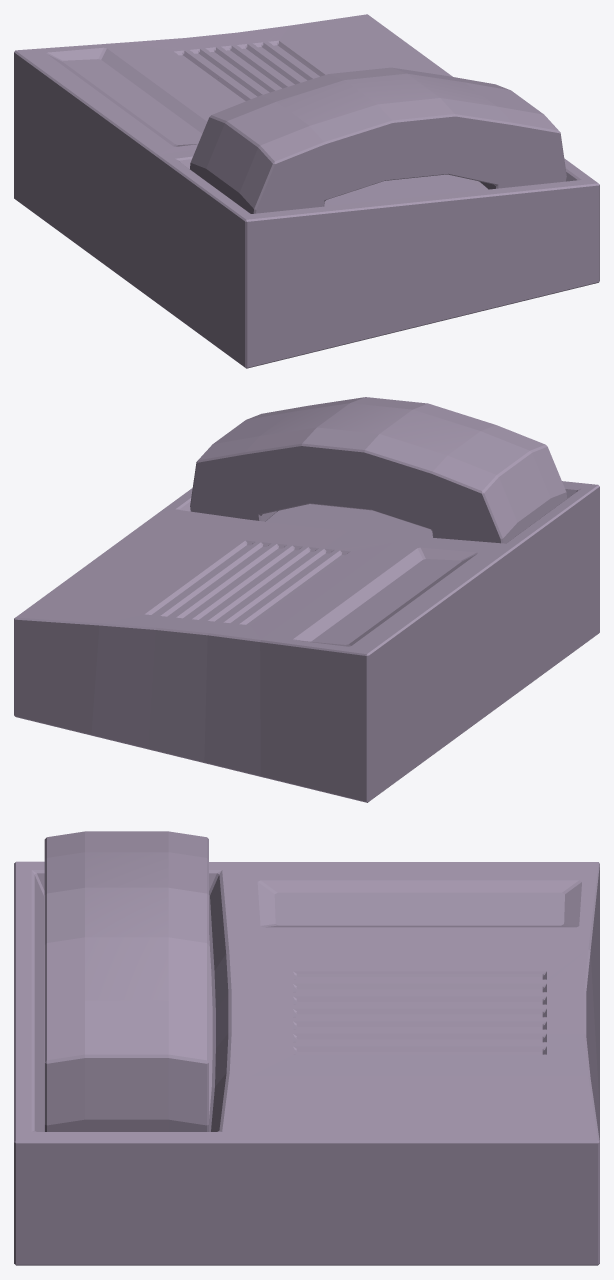
Rendered from Telephone.fbx.
3 renders of one model, top to bottom at view 1: azimuth 30°, elevation 25°; view 2: azimuth 150°, elevation 25°; view 3: azimuth 270°, elevation 25°, orthographic. The views are drawn at different scales.
Visible parts, largest first — view 1: Telephone; view 2: Telephone; view 3: Telephone.
Boxes of the visible parts, x1,y1,x2,y2 form: Telephone: [14, 14, 599, 368]; Telephone: [14, 397, 599, 802]; Telephone: [14, 831, 599, 1265].
Size of the model in its own units: 0.2504 by 0.1386 by 0.2844.
